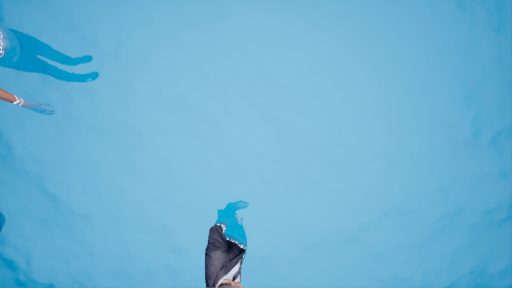person: (198, 195, 261, 288)
